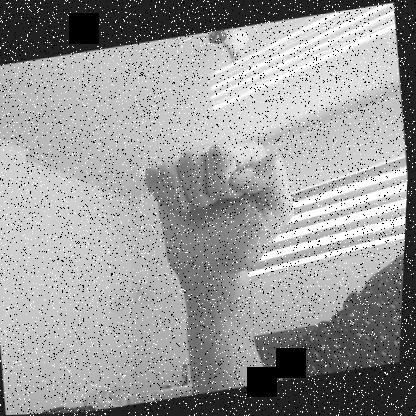A: (138, 131, 308, 289)
